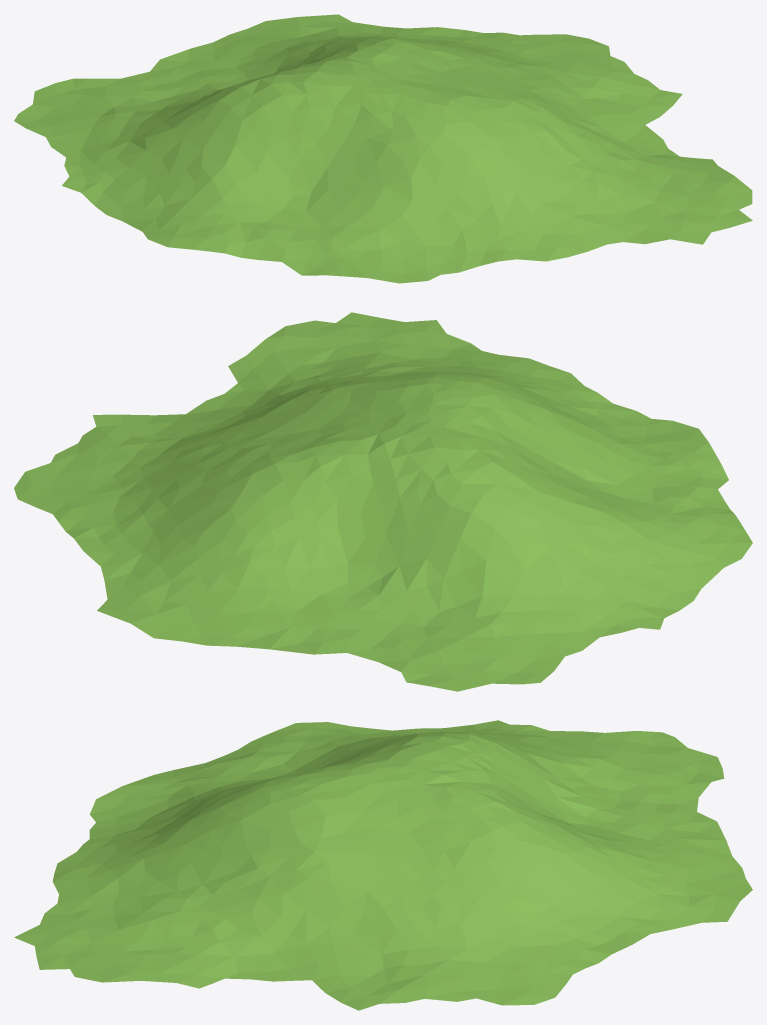
File: MT_Mountain_L_a_03.fbx
The picture shows the model from 3 angles, top to bottom: view 1: azimuth 30°, elevation 25°; view 2: azimuth 150°, elevation 25°; view 3: azimuth 270°, elevation 25°; orthographic projection. The views are drawn at different scales.
Visible parts, largest first — view 1: MT_Mountain_L_a_03; view 2: MT_Mountain_L_a_03; view 3: MT_Mountain_L_a_03.
Part boxes in pixels (x1,y1,x2,y2): MT_Mountain_L_a_03: (14,14,752,283); MT_Mountain_L_a_03: (14,312,752,691); MT_Mountain_L_a_03: (14,720,752,1010).
Size of the model in its own units: 8438 by 1233 by 8960.
